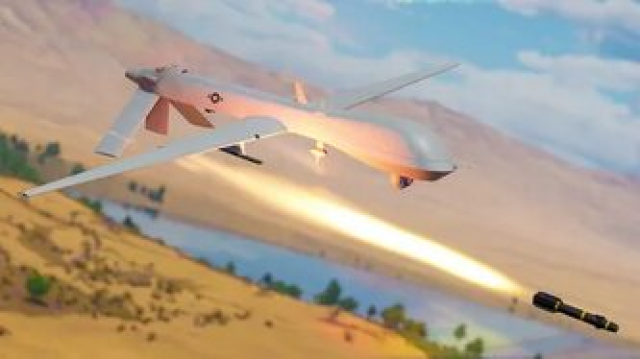military drone: (18, 62, 474, 197)
